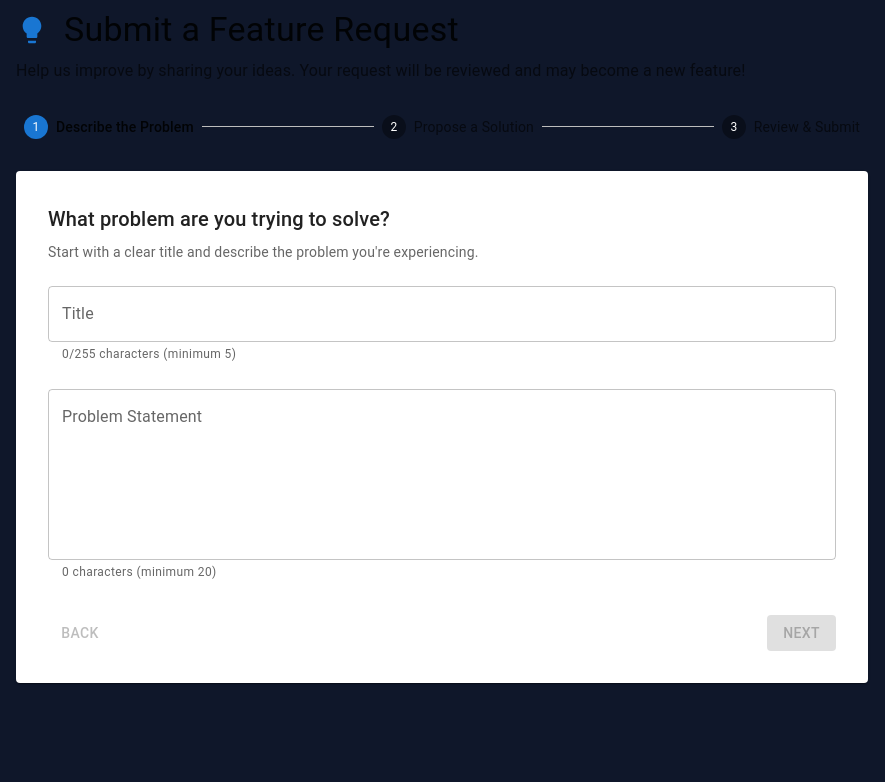
Test: SubmitFeatureRequest › Step 2 - Proposed Solution › allows going back to step 1
# Navigate to step 2
Type "Add dark mode support" into the field labelled "Title" at {"x": 442, "y": 314}, box left=48, top=286, right=836, bottom=342
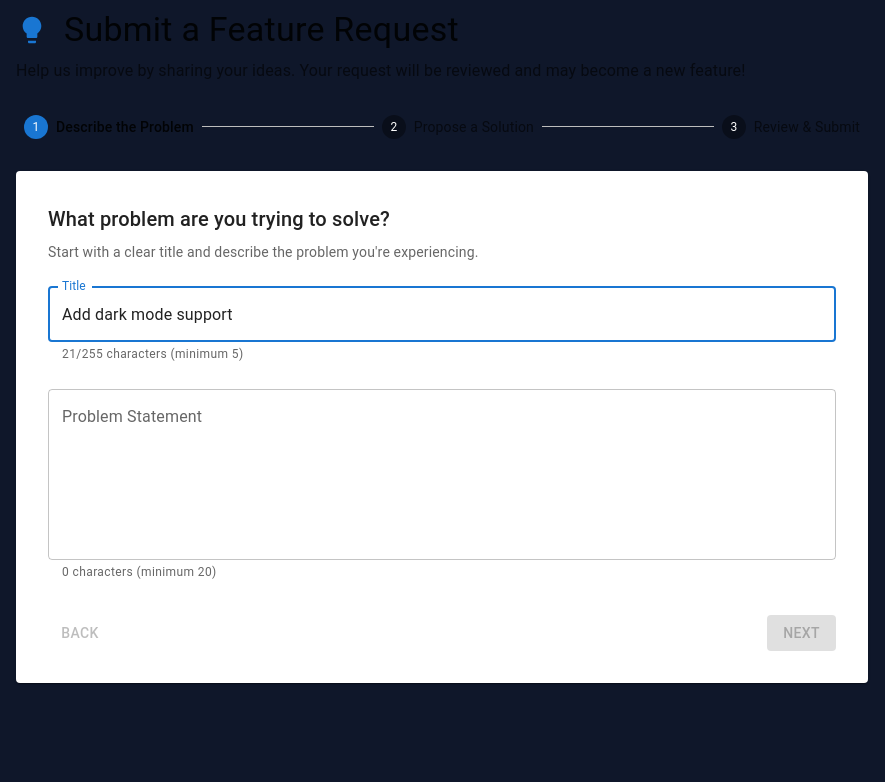
Type "Users need dark mode for better visibility." into the text box labelled "Problem Statement" at {"x": 442, "y": 474}, box left=62, top=405, right=822, bottom=543
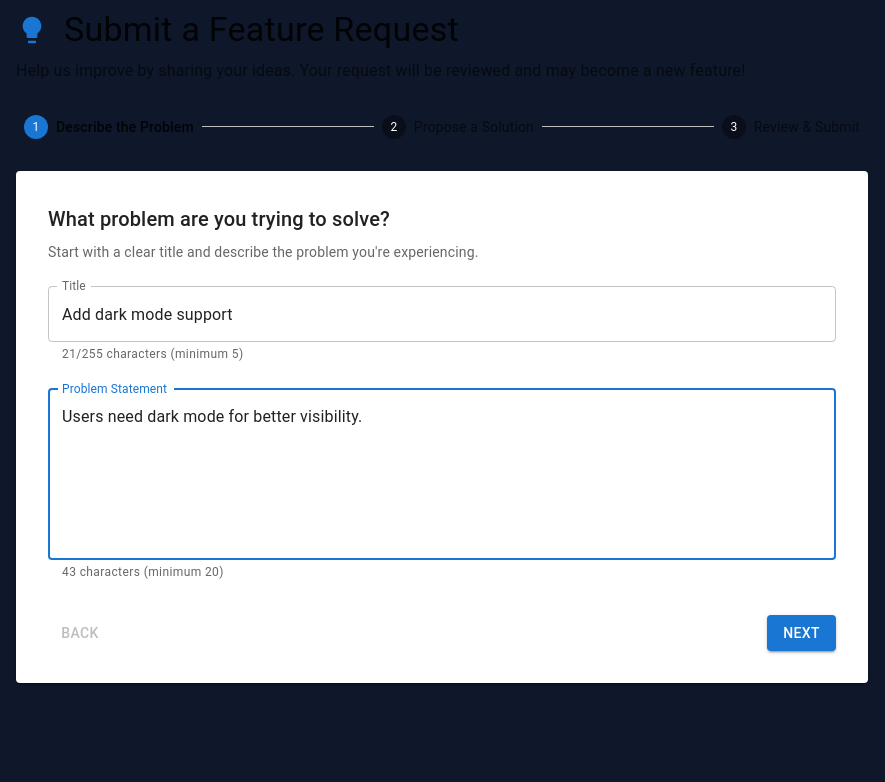
Click the button "Next" at {"x": 802, "y": 633}, box left=767, top=615, right=836, bottom=651
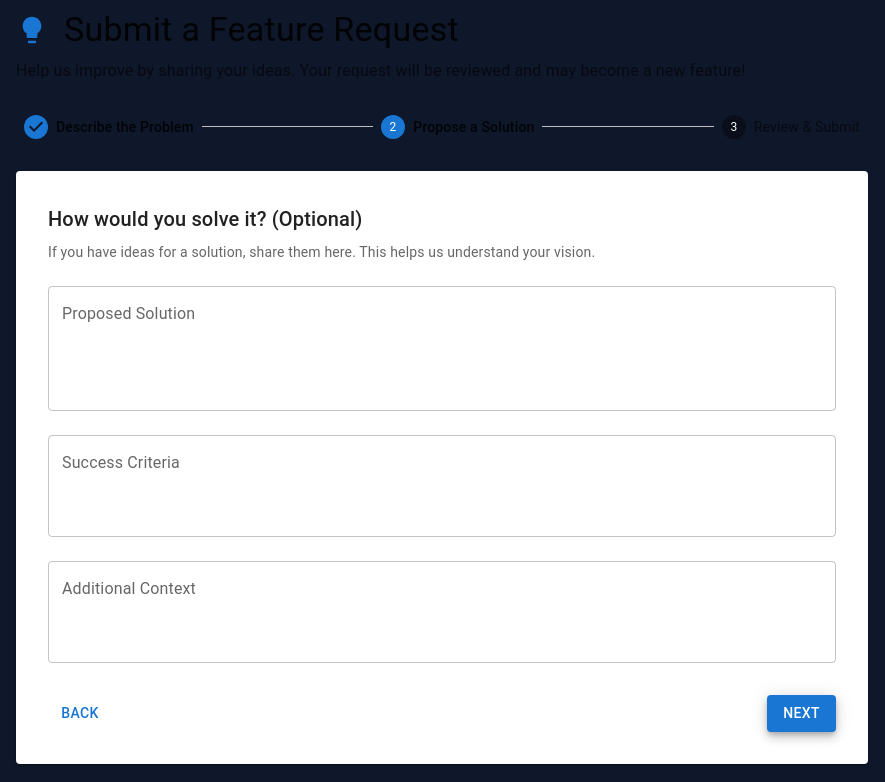
# Click back
Click the button "Back" at {"x": 80, "y": 713}, box left=48, top=695, right=112, bottom=732
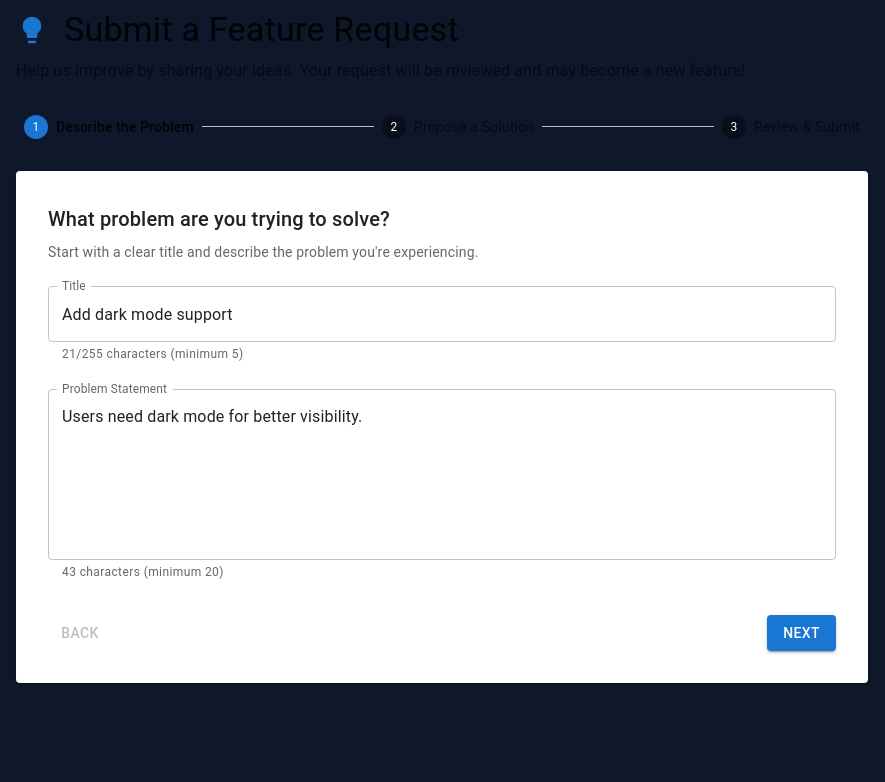
Check: the heading "What problem are you trying to solve?" is shown, box left=48, top=207, right=390, bottom=231
